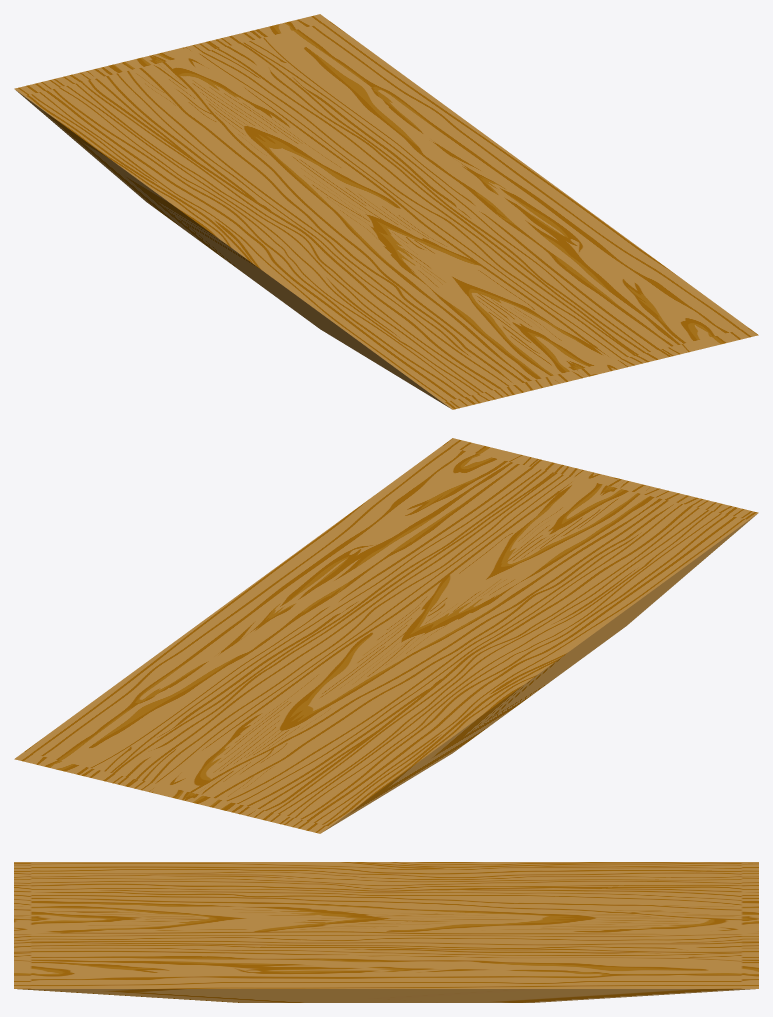
The model's file is wood.fbx.
3 views of the same model, one above another, from view 1: azimuth 30°, elevation 25°; view 2: azimuth 150°, elevation 25°; view 3: azimuth 270°, elevation 25° (orthographic). The views are drawn at different scales.
Parts seen in each view (by area): view 1: wood; view 2: wood; view 3: wood.
Part boxes in pixels (<box>): wood: <box>14,14,758,409</box>; wood: <box>14,438,758,833</box>; wood: <box>14,862,758,1002</box>.
Bounding box in the file's own units: 0.6827 × 0.035 × 1.69.
